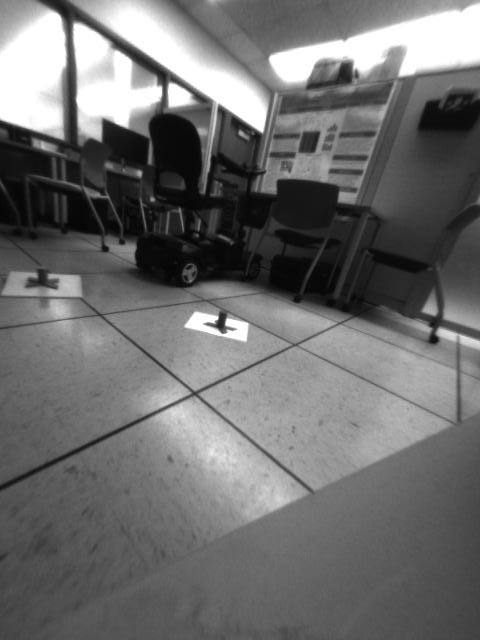X: (21, 263, 61, 292), (200, 309, 234, 334)
